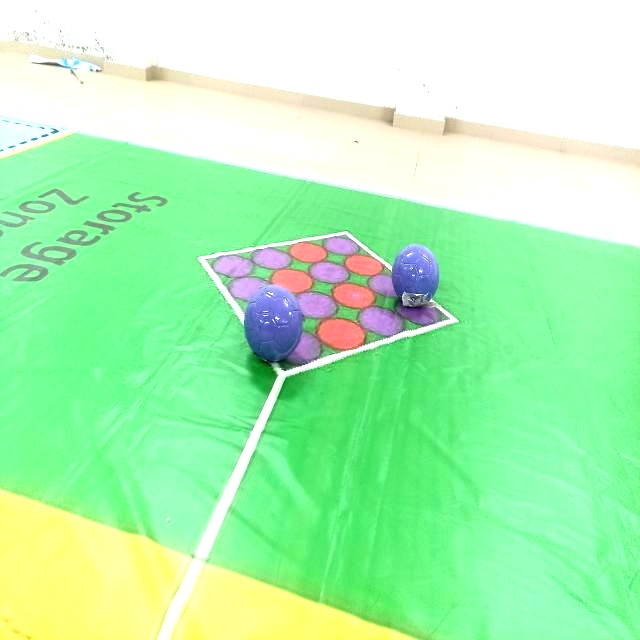purple_ball: (242, 277, 308, 370), (386, 238, 444, 319)
